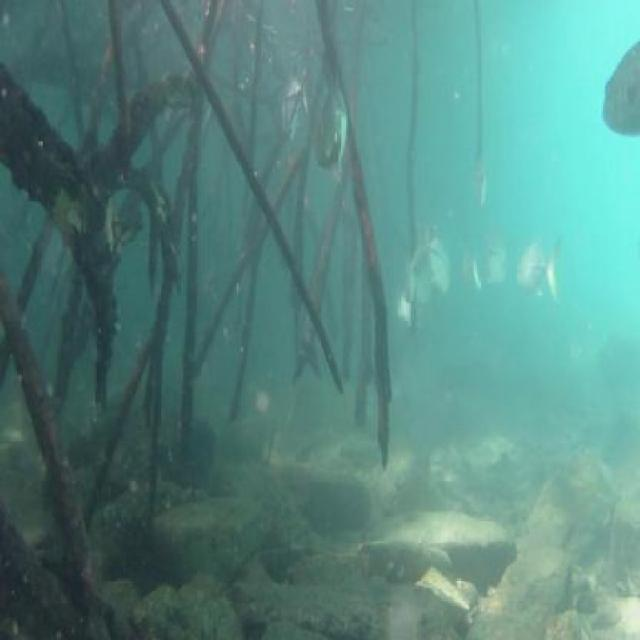Caranx_sexfasciatus_juvenile: (597, 34, 640, 144), (511, 229, 564, 308), (312, 76, 351, 175), (415, 213, 453, 304), (280, 61, 306, 150), (453, 230, 478, 292), (465, 162, 493, 216), (482, 232, 506, 294)
